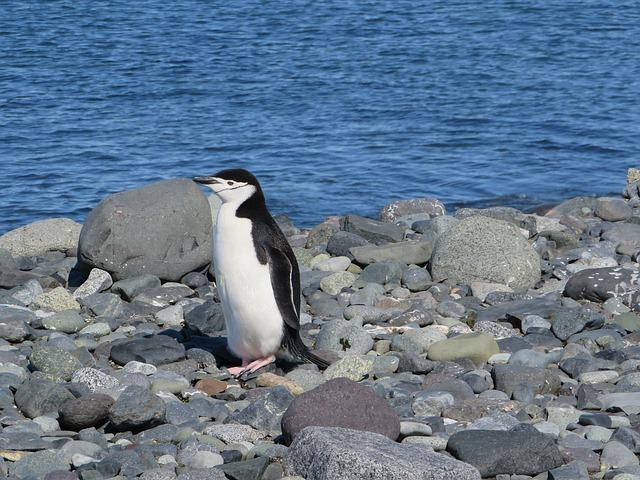Penguin: (192, 169, 328, 375)
